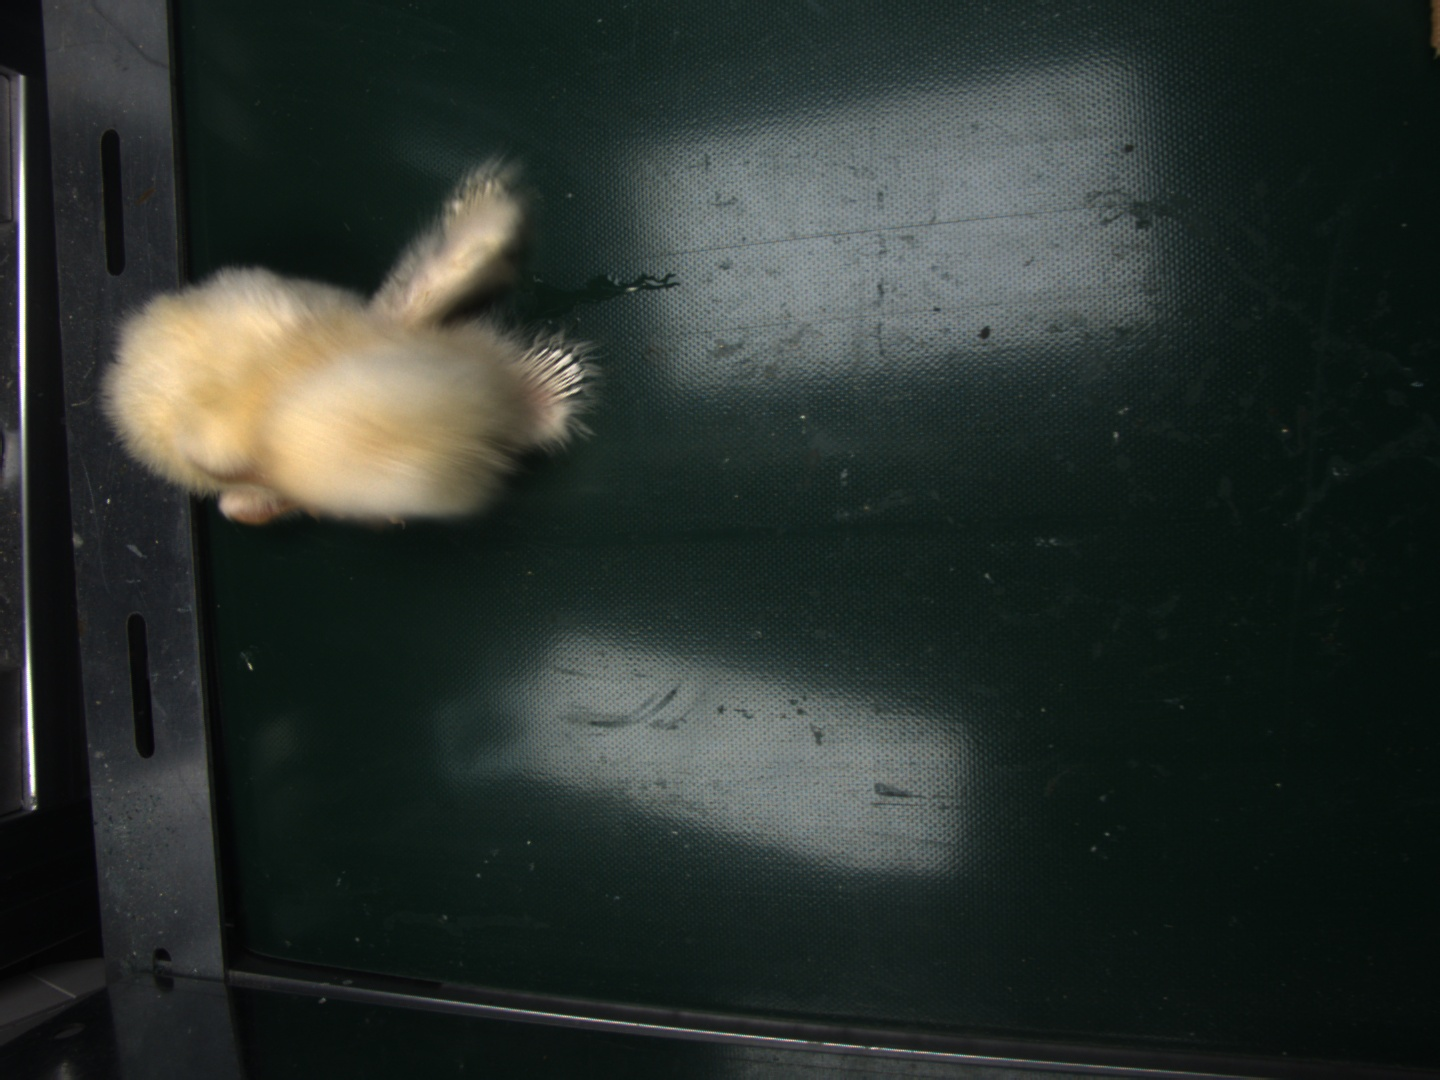male: (517, 337, 588, 407)
